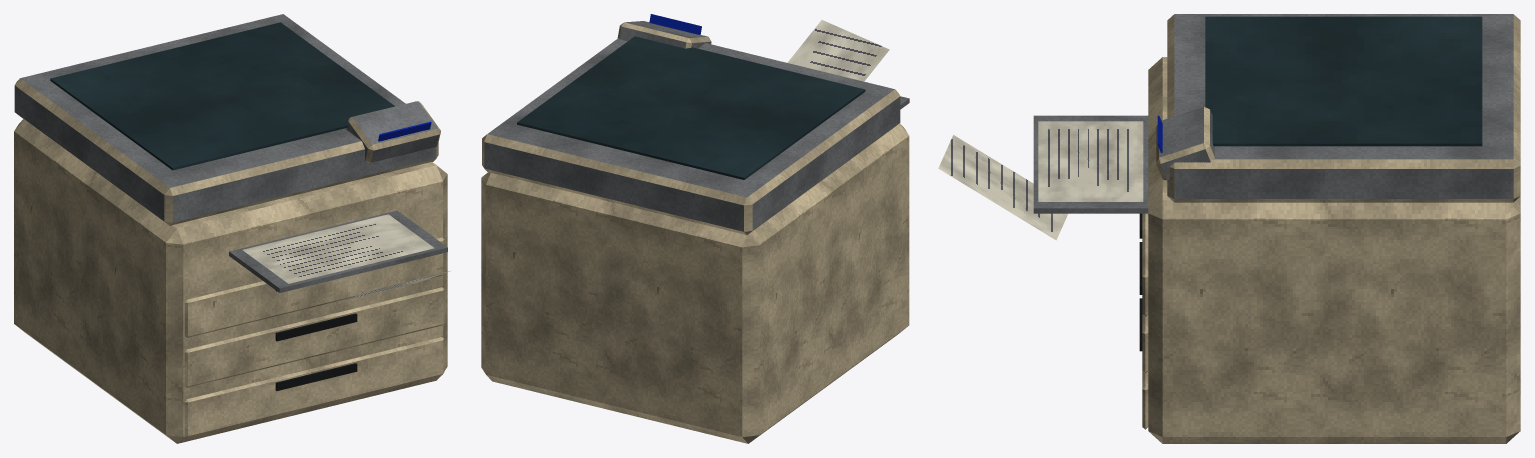
The model's file is Printer.fbx.
3 views of the same model, side by side, from view 1: azimuth 30°, elevation 25°; view 2: azimuth 150°, elevation 25°; view 3: azimuth 270°, elevation 25° (orthographic). The views are drawn at different scales.
Parts seen in each view (by area): view 1: Printer; view 2: Printer; view 3: Printer.
Part boxes in pixels (x1,y1,x2,y2): Printer: [14, 14, 450, 443]; Printer: [481, 14, 909, 443]; Printer: [938, 14, 1520, 443].
Size of the model in its own units: 0.77 by 0.6953 by 1.22.
